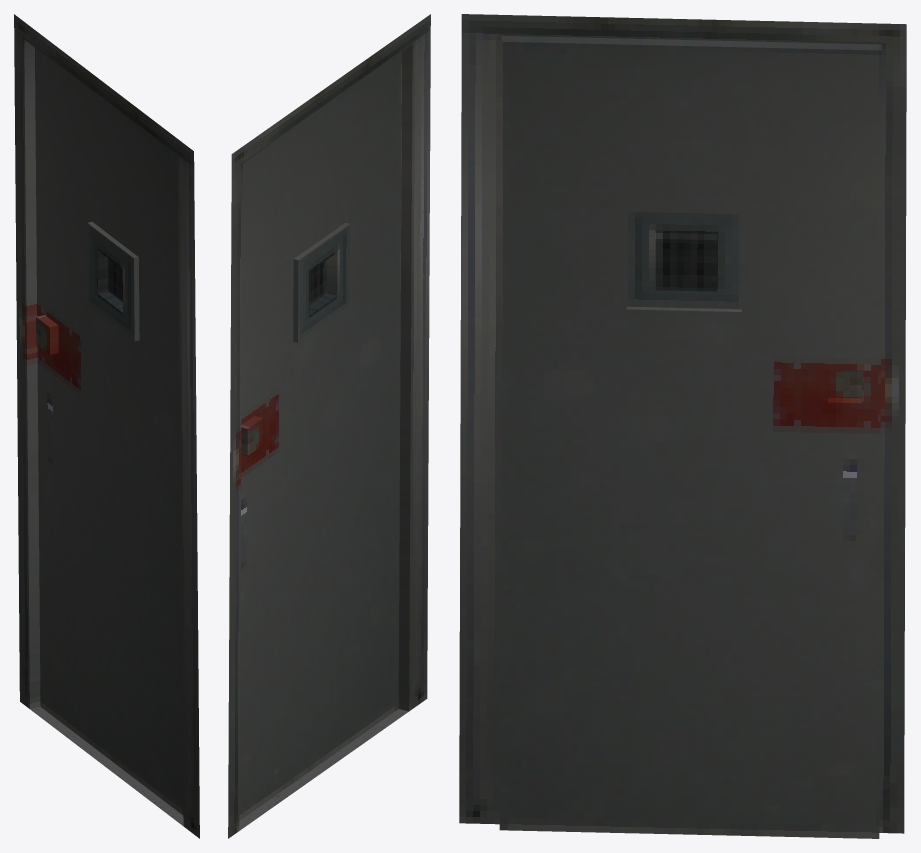
Rendered from CellDoor.glb.
The picture shows the model from 3 angles, left to right: view 1: azimuth 30°, elevation 25°; view 2: azimuth 150°, elevation 25°; view 3: azimuth 270°, elevation 25°; orthographic projection. The views are drawn at different scales.
Parts seen in each view (by area): view 1: Plane.009; view 2: Plane.009; view 3: Plane.009.
Boxes of the visible parts, box(x1,y1,x2,y2) form: Plane.009: box(14, 14, 199, 838); Plane.009: box(228, 14, 430, 838); Plane.009: box(459, 14, 906, 838).
Bounding box in the file's own units: 0.3502 × 9.45 × 4.73.
Materials: 1 (1 with a texture image).
